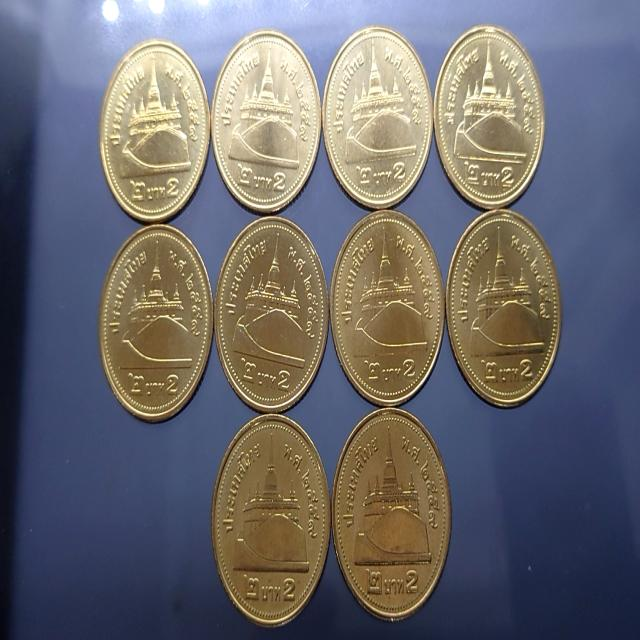2 Bath: (333, 407, 453, 627), (212, 414, 333, 631), (446, 210, 565, 411), (214, 217, 333, 417), (97, 227, 216, 427), (332, 211, 448, 411), (97, 36, 212, 227), (435, 22, 547, 211), (211, 29, 323, 215), (324, 25, 436, 211)
